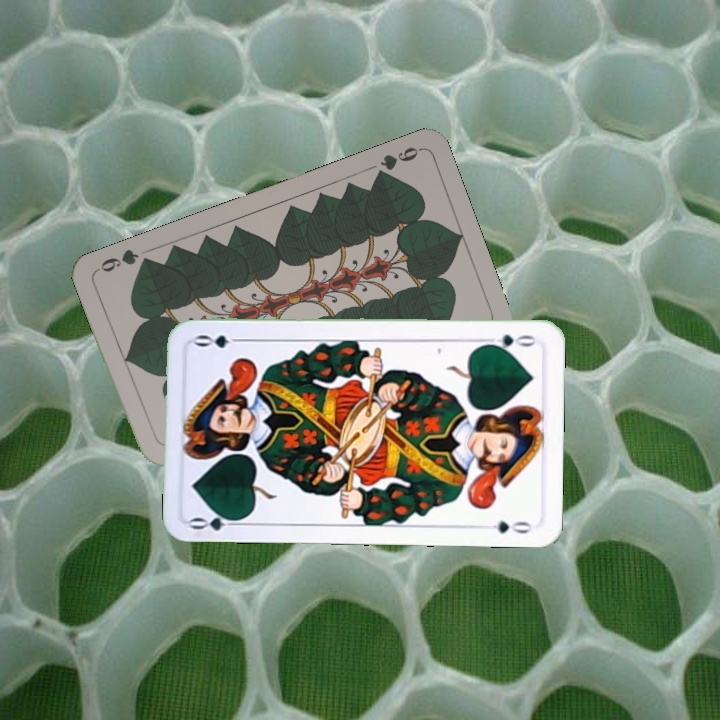G9: (370, 142, 423, 182)
GO: (187, 507, 246, 533), (480, 330, 538, 353)
